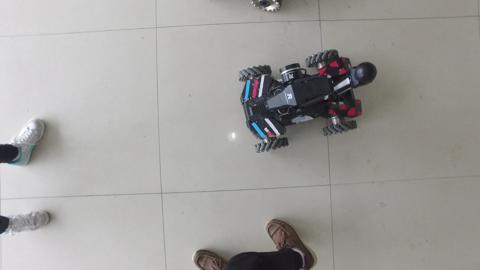chariot: (234, 50, 379, 156)
